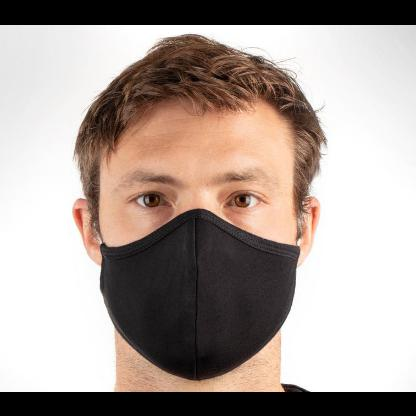Fabric/Cloth Mask: (81, 110, 305, 380)
